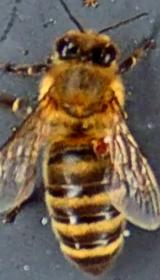varroa_mite: (78, 121, 132, 163)
